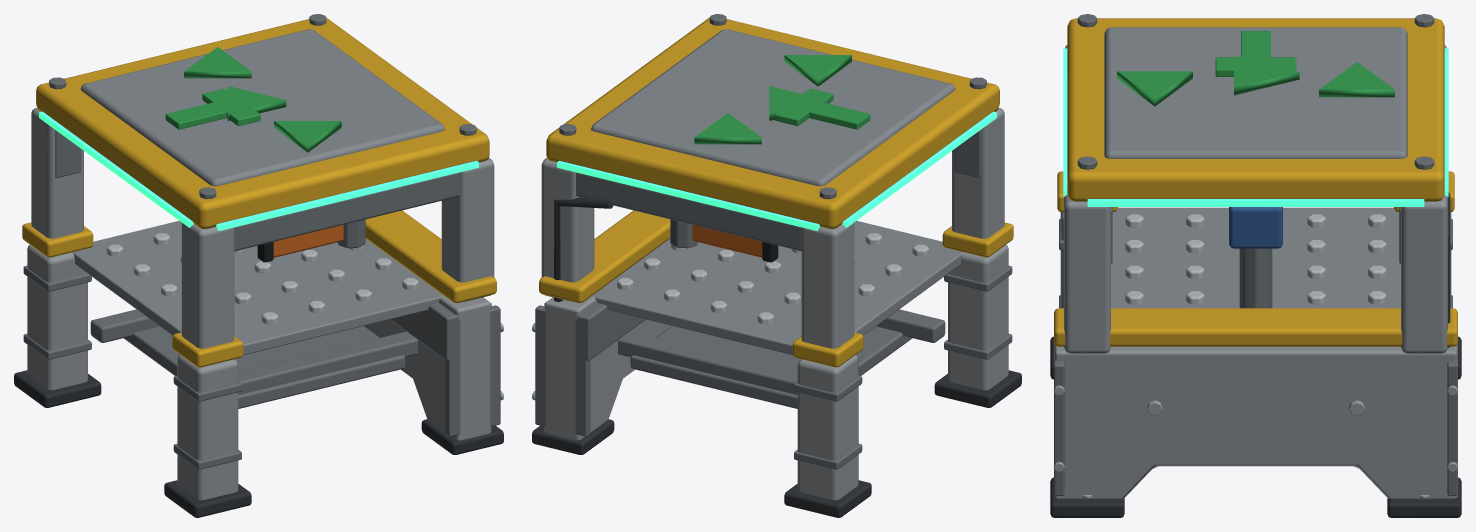
The model's file is fw_split.glb.
3 renders of one model, left to right at view 1: azimuth 30°, elevation 25°; view 2: azimuth 150°, elevation 25°; view 3: azimuth 270°, elevation 25°, orthographic. The views are drawn at different scales.
Visible parts, largest first — view 1: block.030, block.029, block.019, block.007, prism, block.012, block.021, block.020, block.031, block.025, block.002, block.023 (+23 smaller); view 2: block.030, block.029, block.019, block.012, prism, block.007, block.023, block.020, block.032, block.027, block.002, block.021 (+24 smaller); view 3: prism, block.030, block.029, block.019, block.002, block.025, block.027, led.003, block, cyl.029, cyl.027, cyl.028 (+9 smaller).
Boxes of the visible parts, x1=… form: block.030: x1=80, y1=29, x2=444, y2=186; block.029: x1=36, y1=17, x2=489, y2=228; block.019: x1=73, y1=220, x2=442, y2=354; block.007: x1=177, y1=355, x2=238, y2=500; prism: x1=364, y1=295, x2=491, y2=440; block.012: x1=27, y1=245, x2=87, y2=390; block.021: x1=181, y1=222, x2=234, y2=348; block.020: x1=123, y1=326, x2=405, y2=408; block.031: x1=234, y1=172, x2=459, y2=251; block.025: x1=441, y1=158, x2=494, y2=301; block.002: x1=365, y1=210, x2=496, y2=302; block.023: x1=31, y1=108, x2=83, y2=238; block.030: x1=591, y1=29, x2=955, y2=186; block.029: x1=546, y1=17, x2=999, y2=228; block.019: x1=593, y1=220, x2=962, y2=354; block.012: x1=797, y1=355, x2=858, y2=500; prism: x1=544, y1=295, x2=671, y2=440; block.007: x1=948, y1=245, x2=1008, y2=390; block.023: x1=801, y1=222, x2=854, y2=348; block.020: x1=630, y1=326, x2=912, y2=408; block.032: x1=576, y1=172, x2=801, y2=251; block.027: x1=541, y1=158, x2=594, y2=301; block.002: x1=539, y1=210, x2=670, y2=302; block.021: x1=952, y1=108, x2=1004, y2=238; prism: x1=1054, y1=343, x2=1457, y2=498; block.030: x1=1104, y1=27, x2=1407, y2=158; block.029: x1=1067, y1=18, x2=1444, y2=201; block.019: x1=1111, y1=207, x2=1400, y2=308; block.002: x1=1054, y1=308, x2=1457, y2=346; block.025: x1=1064, y1=195, x2=1110, y2=353; block.027: x1=1401, y1=195, x2=1447, y2=353; led.003: x1=1087, y1=199, x2=1424, y2=206; block: x1=1229, y1=207, x2=1282, y2=248; cyl.029: x1=1239, y1=248, x2=1272, y2=308; cyl.027: x1=1319, y1=62, x2=1394, y2=97; cyl.028: x1=1117, y1=71, x2=1192, y2=106.
Bounding box in the file's own units: 1.19 × 1.17 × 1.22.
